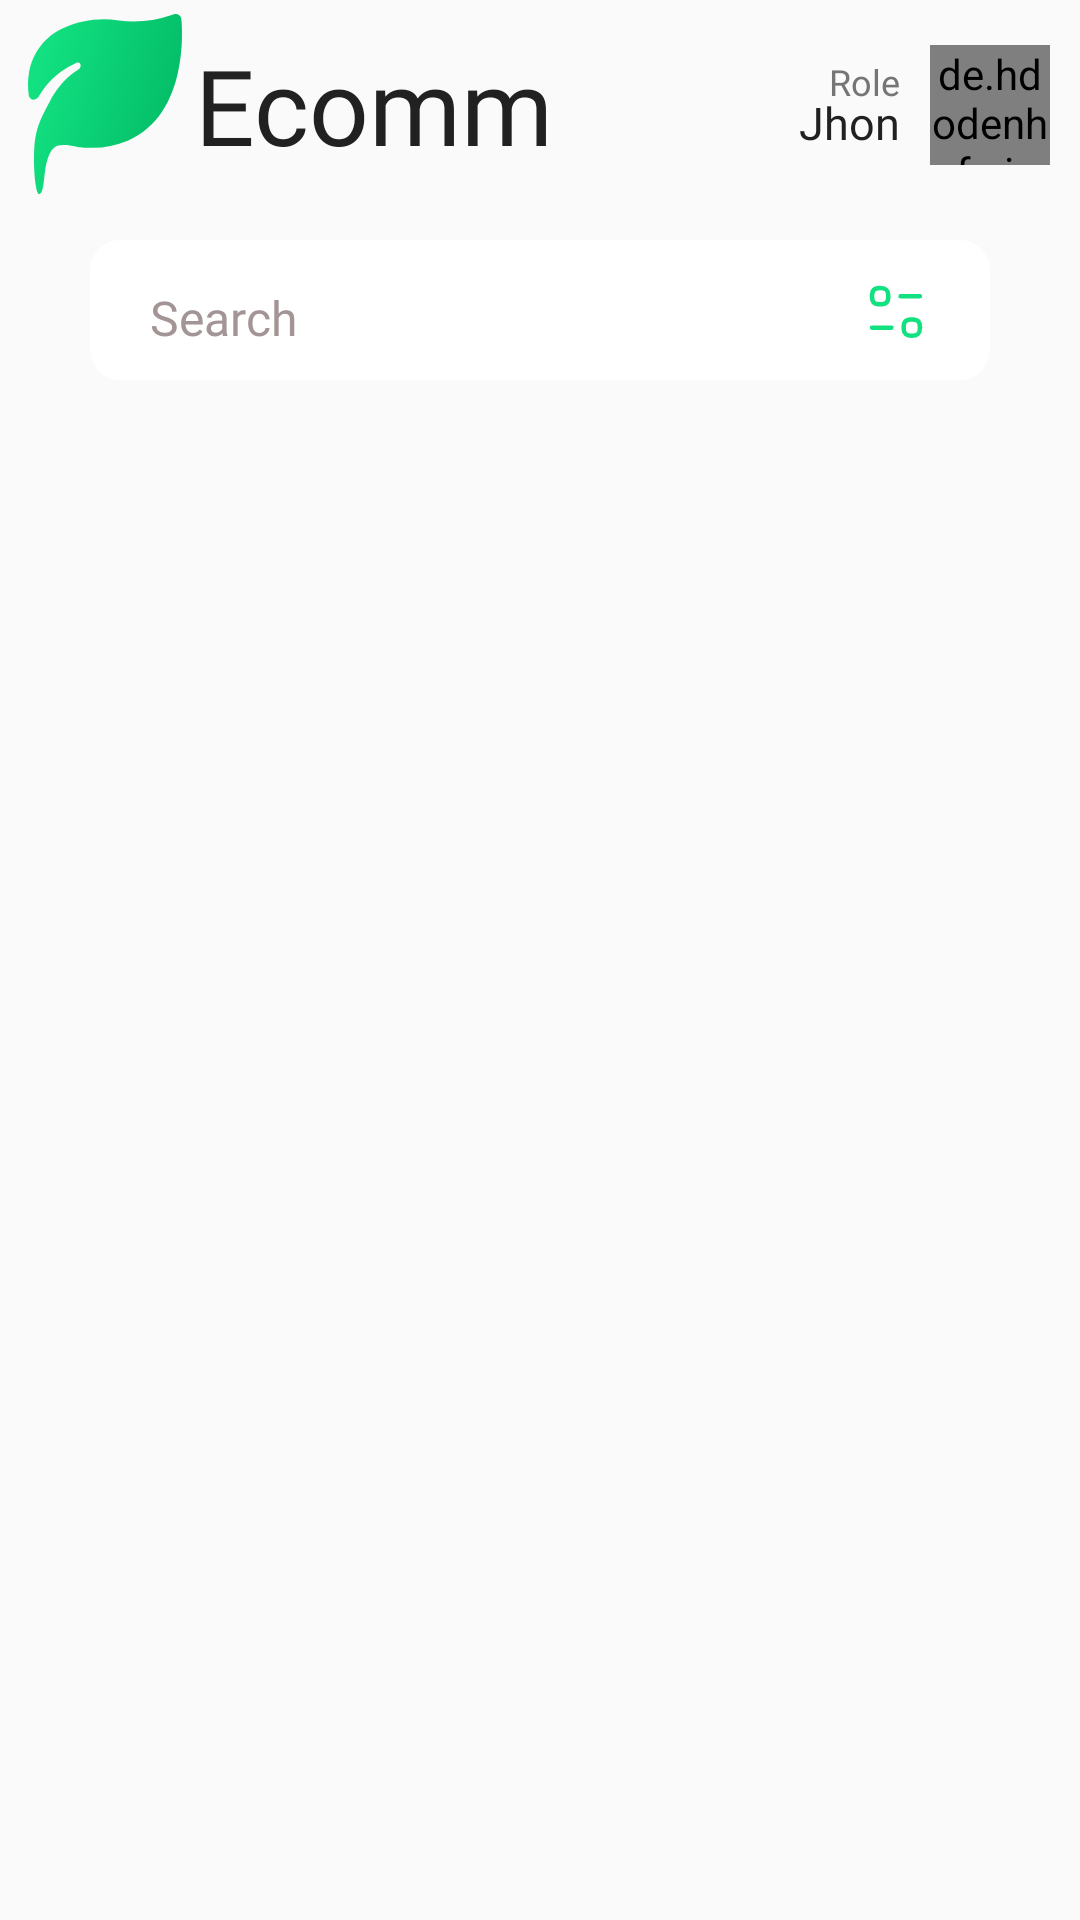

Screen size 1080w x 1920h. Icon name, then its center in pixels as point (x, y):
filter: point (896, 311)
